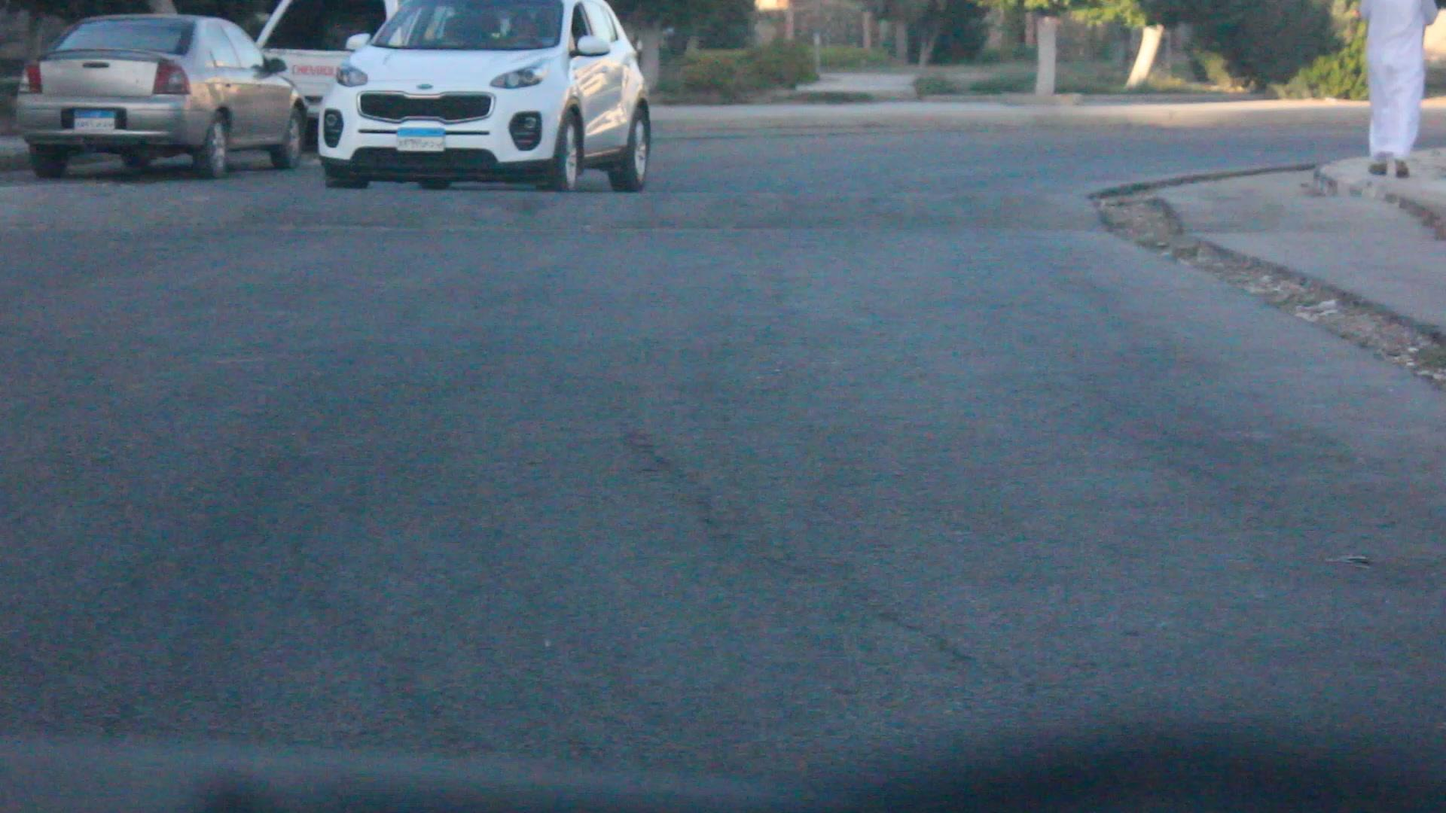Bump: (8, 173, 1118, 237)
